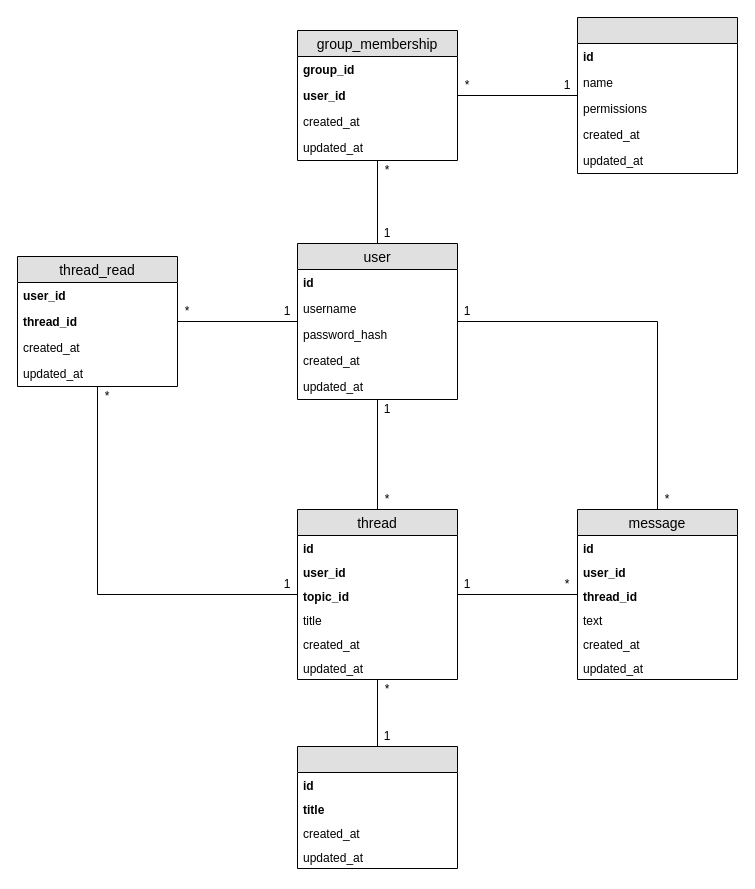
This 755x889 diagram has some shape labels left out. The box of each missing label's shape, as (x1, y1, x2, y2) in pixels:
group: (576, 16, 738, 174)
topic: (296, 746, 458, 868)
